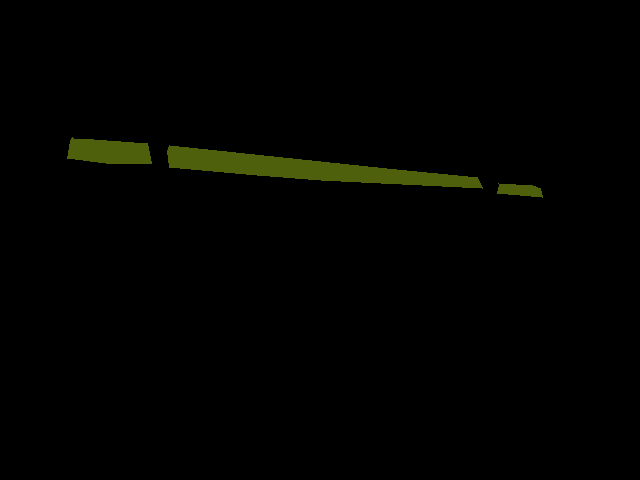Train: (67, 137, 542, 198)
